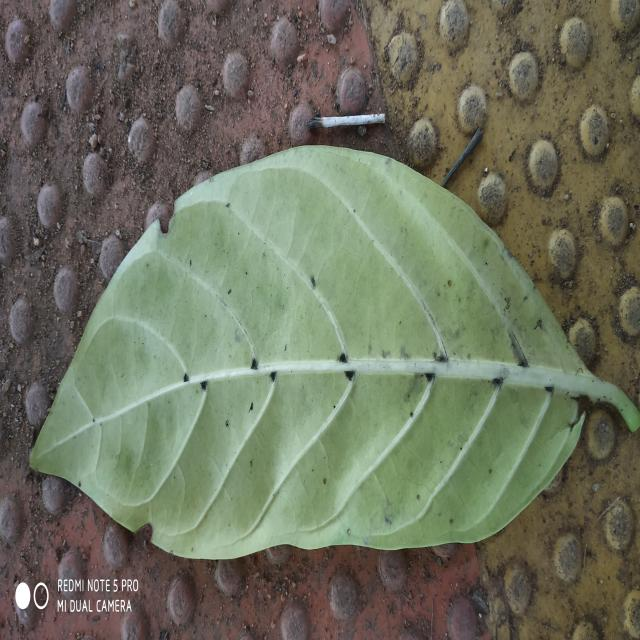anthracnosenooni: (30, 147, 640, 560)
